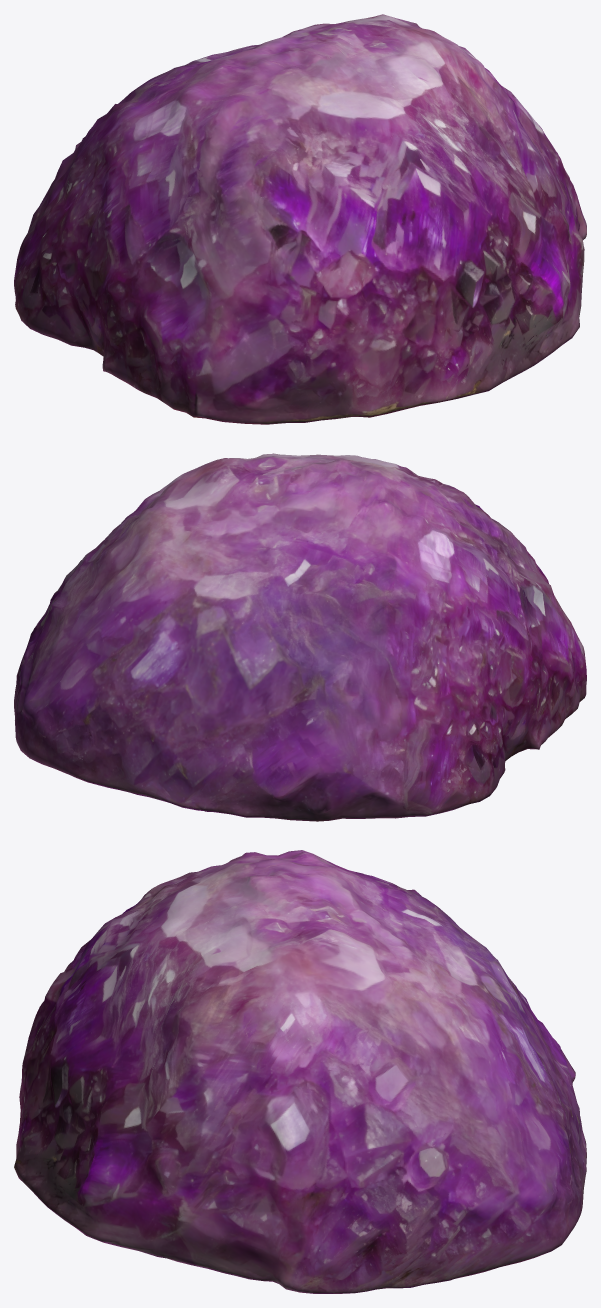
File: Amethyst_Dream_A.fbx
The picture shows the model from 3 angles, top to bottom: view 1: azimuth 30°, elevation 25°; view 2: azimuth 150°, elevation 25°; view 3: azimuth 270°, elevation 25°; orthographic projection. The views are drawn at different scales.
Visible parts, largest first — view 1: input; view 2: input; view 3: input.
Part boxes in pixels (box(x1,y1,x2,y2)): input: box(14, 14, 586, 424); input: box(14, 453, 586, 821); input: box(14, 850, 586, 1293).
Bounding box in the file's own units: 198 × 97.5 × 185.
Materials: 1 (1 with a texture image).
